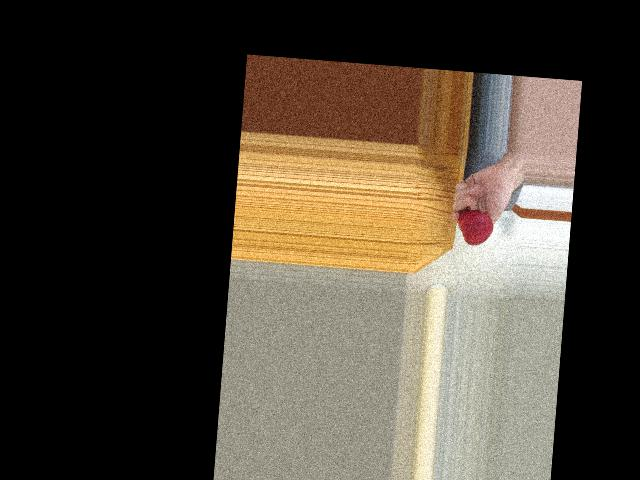apple: (456, 208, 494, 248)
